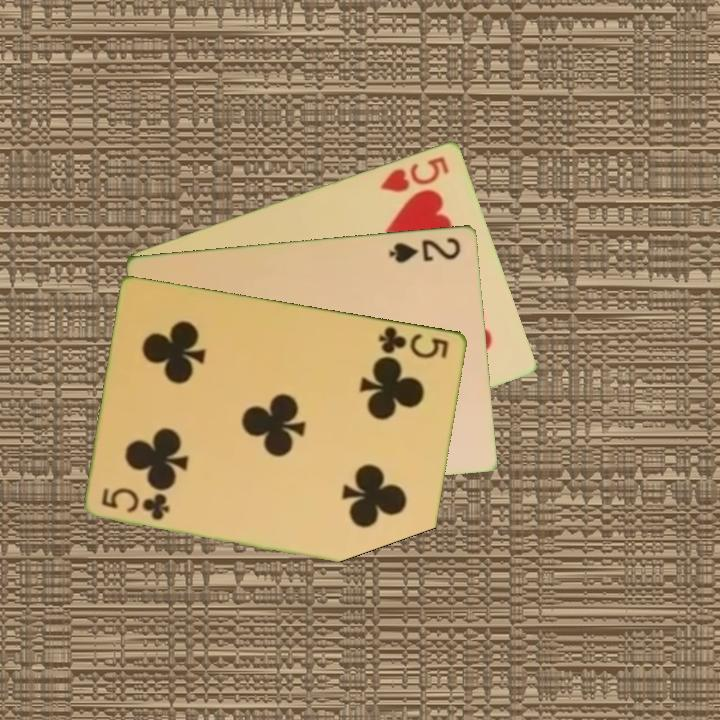2s: (386, 234, 464, 265)
5c: (375, 322, 452, 361), (98, 483, 173, 523)
5h: (376, 152, 452, 195)
